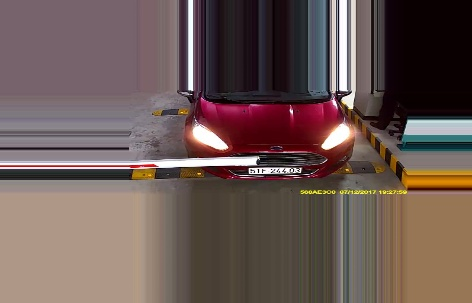plate: (245, 165, 304, 175)
